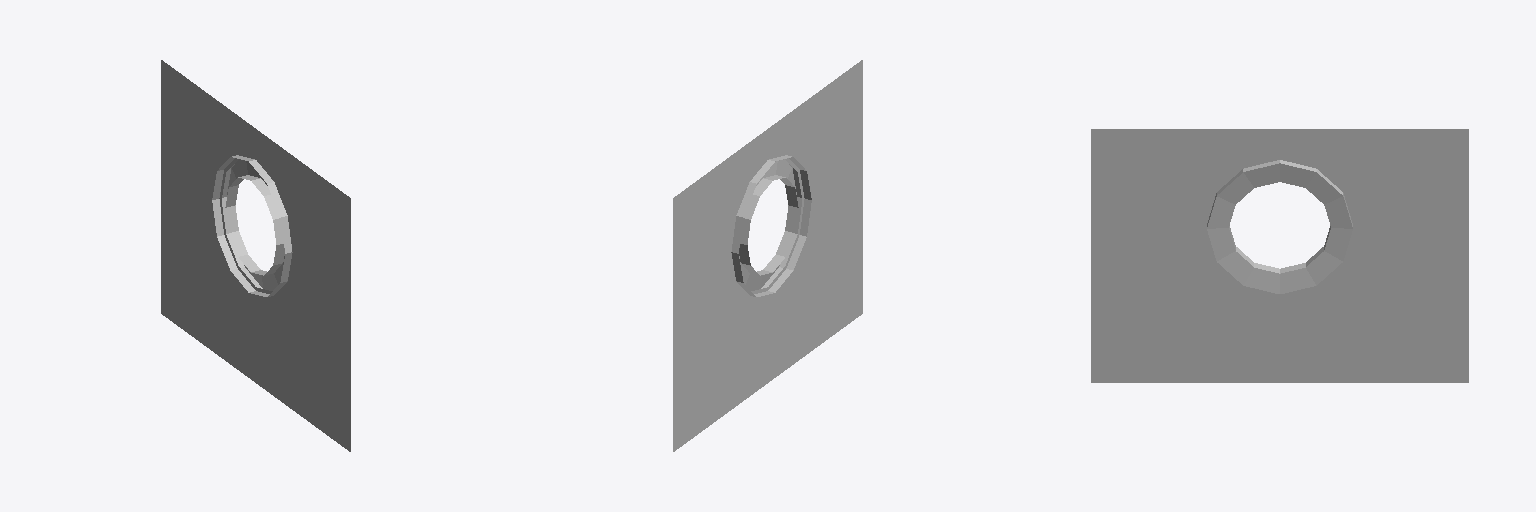
Rendered from ASSET_mur_hublot_4x4_v2.obj.
3 views of the same model, side by side, from view 1: azimuth 30°, elevation 25°; view 2: azimuth 150°, elevation 25°; view 3: azimuth 270°, elevation 25° (orthographic).
Parts seen in each view (by area): view 1: MUR_FENETRE_Plane.004; view 2: MUR_FENETRE_Plane.004; view 3: MUR_FENETRE_Plane.004.
Part boxes in pixels (bbox=[...]): MUR_FENETRE_Plane.004: bbox=[161, 60, 350, 451]; MUR_FENETRE_Plane.004: bbox=[673, 60, 862, 451]; MUR_FENETRE_Plane.004: bbox=[1091, 129, 1468, 382].
Size of the model in its own units: 0.3572 by 5.94 by 8.